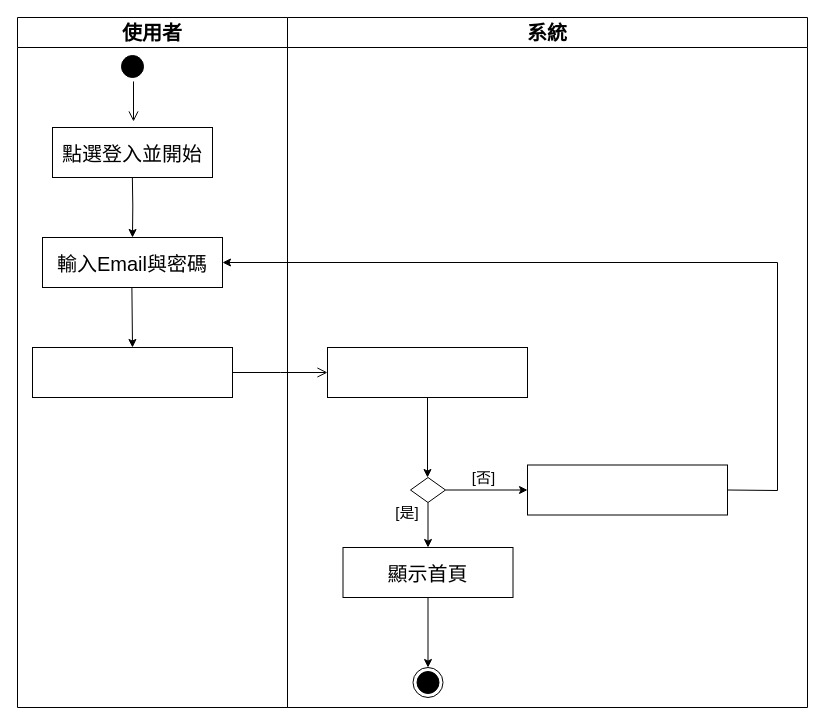
This 825x725 diagram has some shape labels left out. Each missing label, with the box of its shape:
檢查Email與密碼: (326, 346, 528, 398)
顯示帳號錯誤或 密碼不存在: (526, 464, 728, 515)
點選登入: (32, 346, 232, 398)
